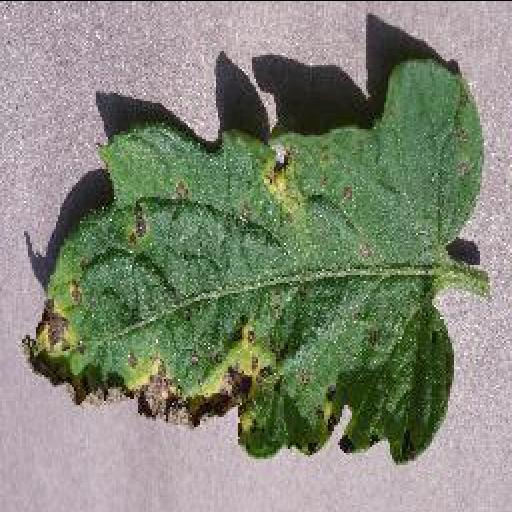disease_tomato: (26, 54, 482, 456)
